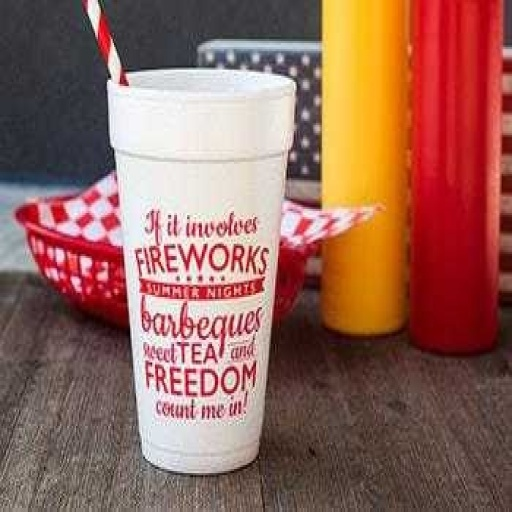cup: (107, 69, 297, 476)
